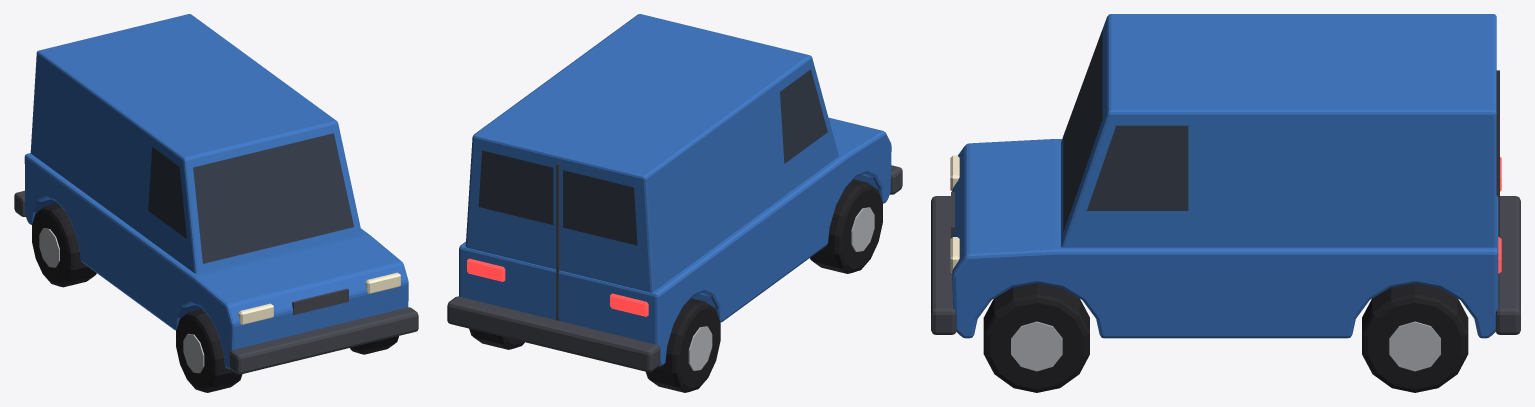
File: Van.fbx
The picture shows the model from 3 angles, left to right: view 1: azimuth 30°, elevation 25°; view 2: azimuth 150°, elevation 25°; view 3: azimuth 270°, elevation 25°; orthographic projection. The views are drawn at different scales.
Parts seen in each view (by area): view 1: Body, Windows, BumperFront, WheelFR, WheelRR, Grille, HubcapFR, HubcapRR, HeadlightL, HeadlightR, WheelFL; view 2: Body, Windows, BumperRear, WheelRR, WheelFR, HubcapRR, HubcapFR, TaillightL, TaillightR, RearDoorSeam, WheelRL; view 3: Body, Windows, WheelFL, WheelRL, BumperRear, BumperFront, HubcapFL, HubcapRL, RearDoorSeam.
Part boxes in pixels (bbox=[...]): Body: bbox=[24, 14, 408, 369]; Windows: bbox=[148, 133, 353, 263]; BumperFront: bbox=[229, 307, 418, 374]; WheelFR: bbox=[176, 309, 242, 392]; WheelRR: bbox=[32, 203, 96, 287]; Grille: bbox=[292, 288, 348, 314]; HubcapFR: bbox=[183, 333, 204, 373]; HubcapRR: bbox=[39, 228, 59, 267]; HeadlightL: bbox=[365, 272, 400, 293]; HeadlightR: bbox=[238, 303, 273, 324]; WheelFL: bbox=[350, 336, 398, 354]; Body: bbox=[459, 14, 891, 366]; Windows: bbox=[478, 69, 827, 245]; BumperRear: bbox=[447, 296, 660, 372]; WheelRR: bbox=[646, 298, 720, 392]; WheelFR: bbox=[810, 179, 882, 273]; HubcapRR: bbox=[688, 326, 712, 370]; HubcapFR: bbox=[851, 207, 874, 251]; TaillightL: bbox=[467, 258, 505, 281]; TaillightR: bbox=[610, 293, 648, 316]; RearDoorSeam: bbox=[556, 163, 559, 320]; WheelRL: bbox=[469, 328, 524, 349]; Body: bbox=[952, 14, 1498, 338]; Windows: bbox=[1063, 29, 1188, 231]; WheelFL: bbox=[983, 283, 1089, 392]; WheelRL: bbox=[1362, 283, 1468, 392]; BumperRear: bbox=[1495, 196, 1520, 334]; BumperFront: bbox=[931, 196, 956, 334]; HubcapFL: bbox=[1011, 321, 1062, 371]; HubcapRL: bbox=[1389, 321, 1440, 371]; RearDoorSeam: bbox=[1496, 70, 1499, 237].
Bounding box in the file's own units: 9 × 9.4 × 18.4.
